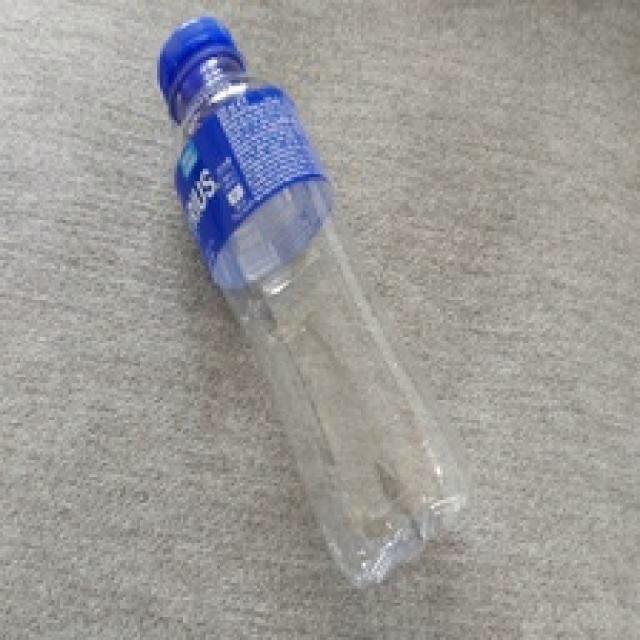bottle: (157, 16, 471, 590)
